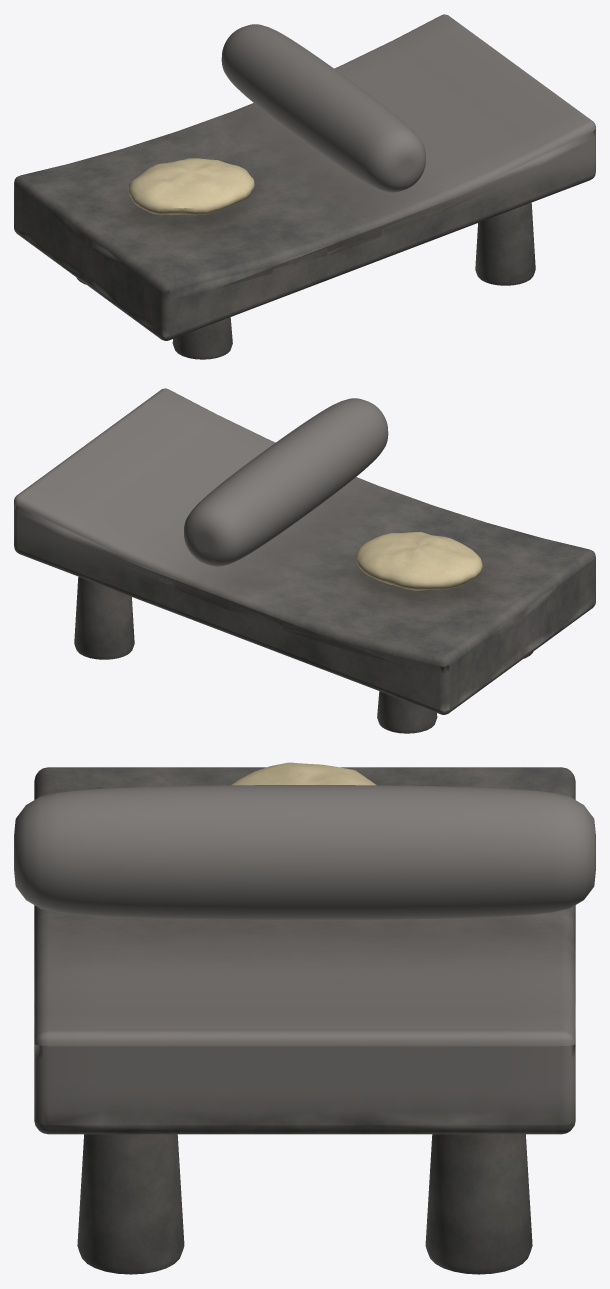
File: metate_mano.glb
3 renders of one model, top to bottom at view 1: azimuth 30°, elevation 25°; view 2: azimuth 150°, elevation 25°; view 3: azimuth 270°, elevation 25°, orthographic. The views are drawn at different scales.
Visible parts, largest first — view 1: metate_mano; view 2: metate_mano; view 3: metate_mano.
Boxes of the visible parts, x1=… form: metate_mano: x1=14, y1=14, x2=595, y2=359; metate_mano: x1=14, y1=388, x2=595, y2=733; metate_mano: x1=14, y1=762, x2=595, y2=1274.
Bounding box in the file's own units: 0.46 × 0.2 × 0.3009.
1 material, 1 textured.
